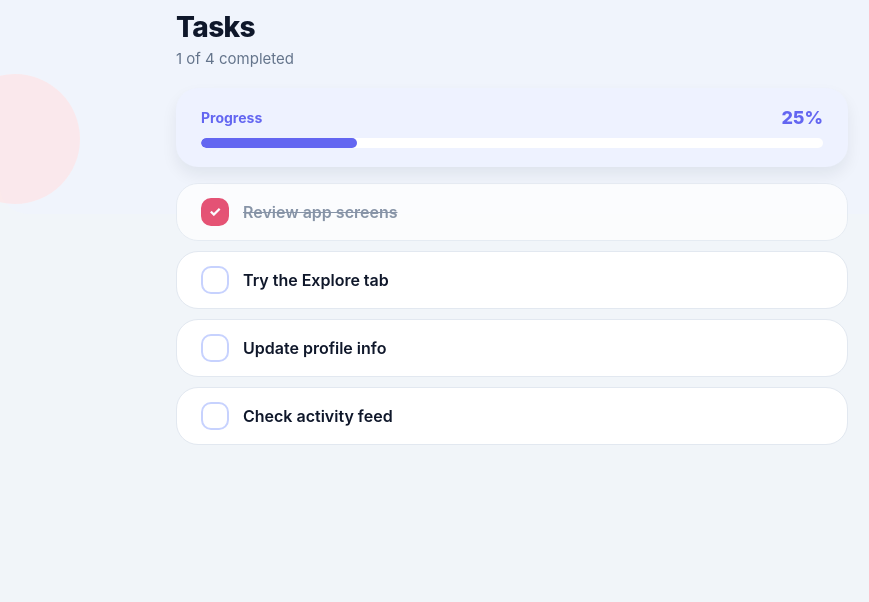
Scenario: TasksScreen › reaches all tasks completed when every task is toggled on
Click the button "Try the Explore tab" at (512, 280), box [176,251,848,309]
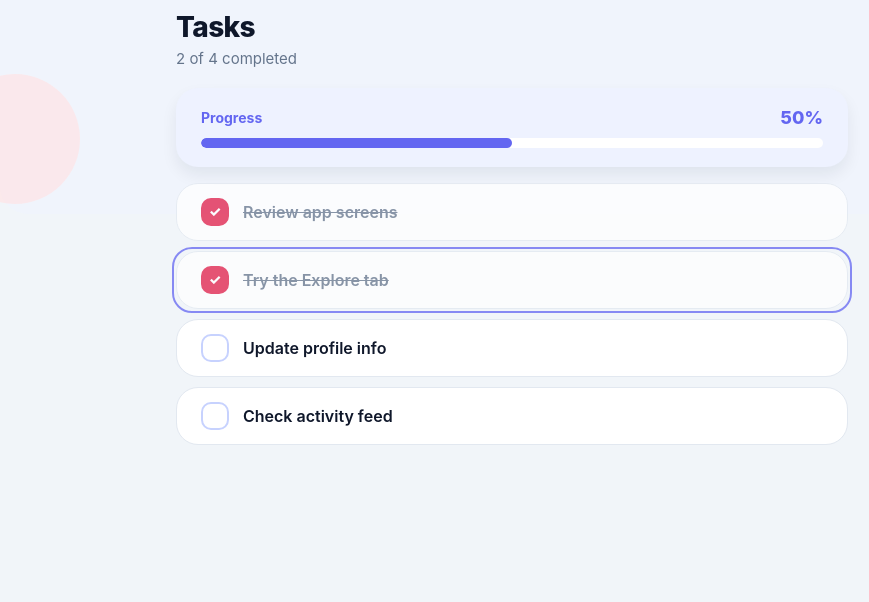
Click the button "Update profile info" at (512, 348), box [176,319,848,377]
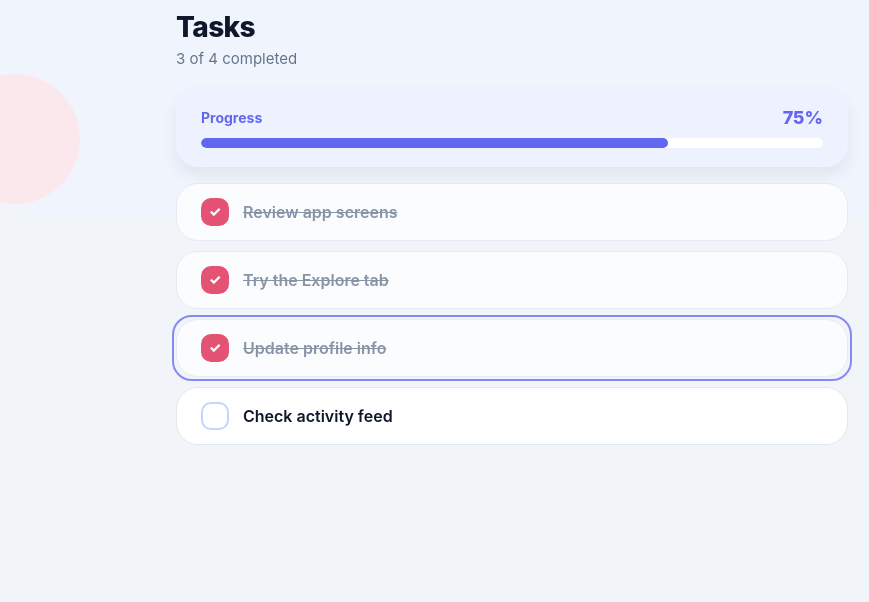
Click the button "Check activity feed" at (512, 416), box [176,387,848,445]
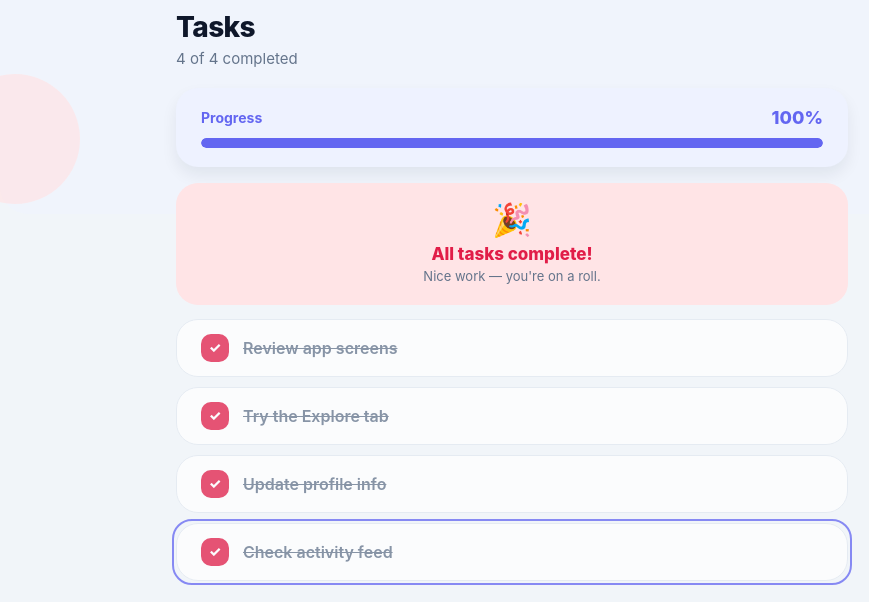
Expected: the text "4 of 4 completed" is shown, [176,49,298,68]
